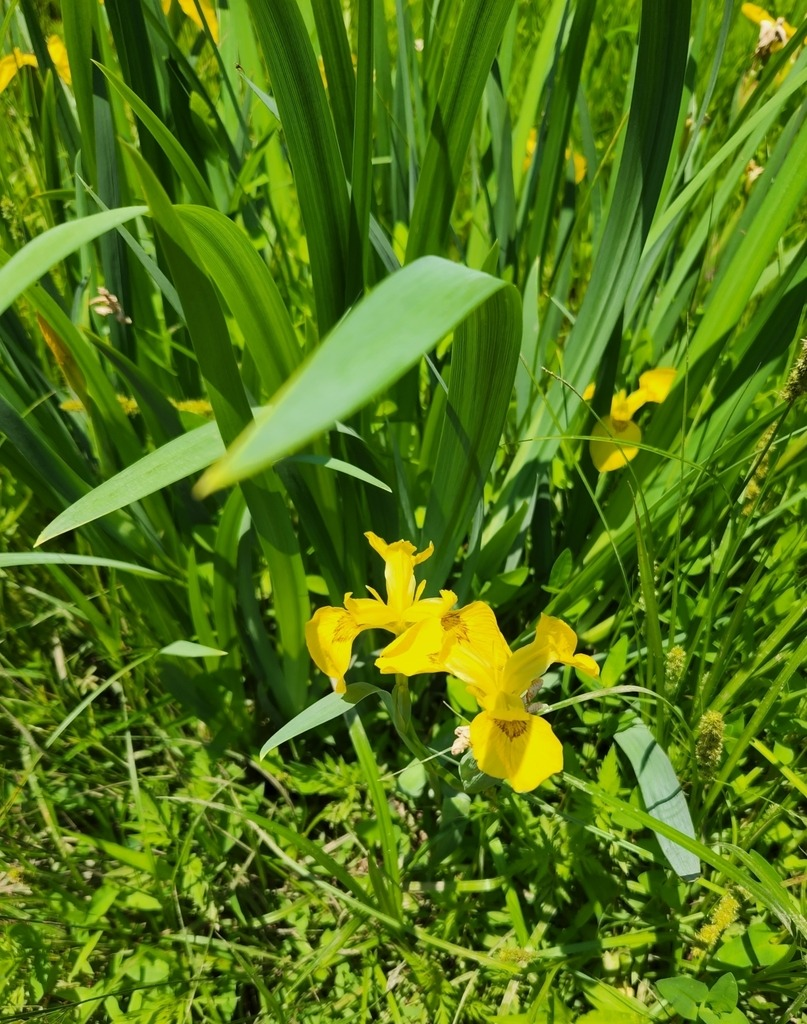yellow flag iris: (302, 529, 603, 795), (579, 364, 679, 474)
